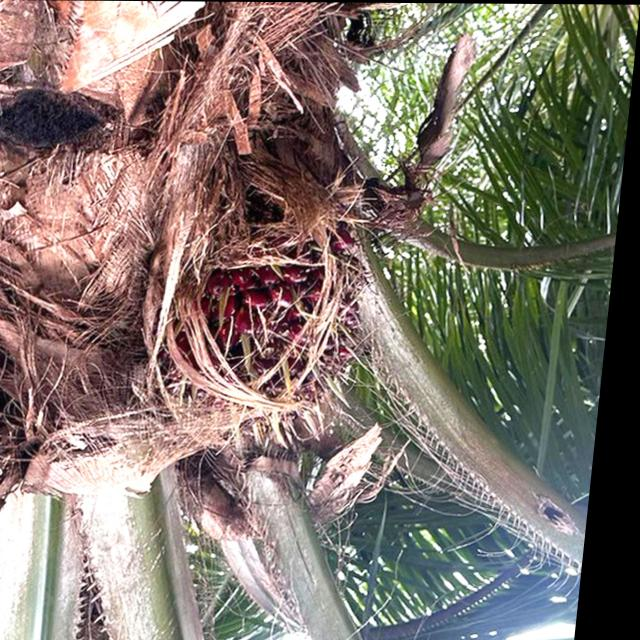ripe: (160, 225, 396, 462)
